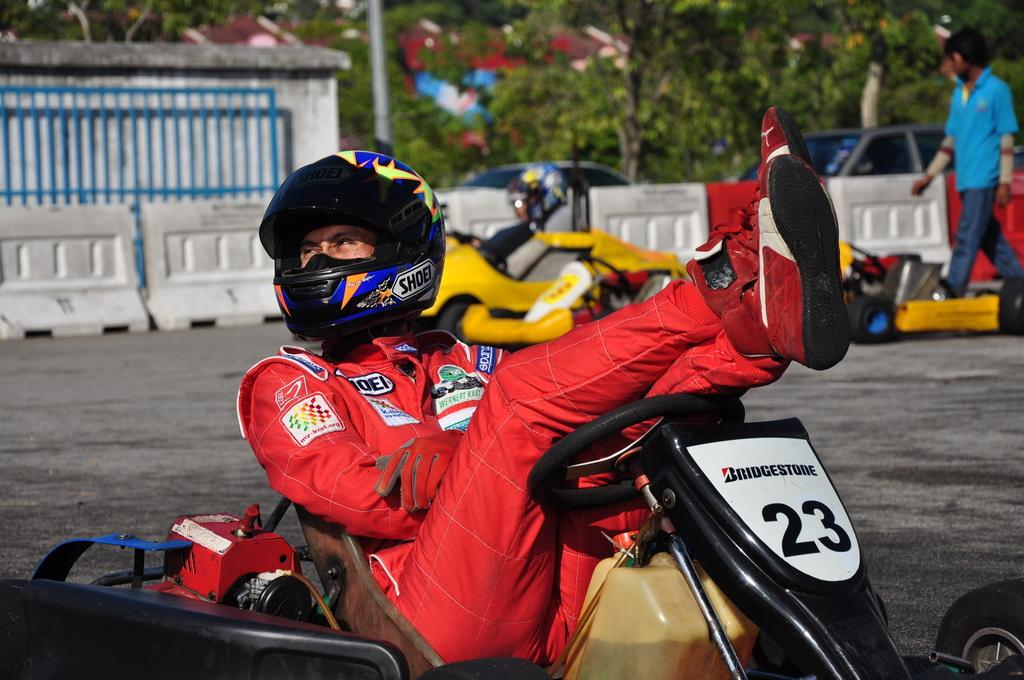helmet: (258, 150, 446, 343), (516, 163, 567, 221)
nohelmet: (943, 25, 989, 81)
